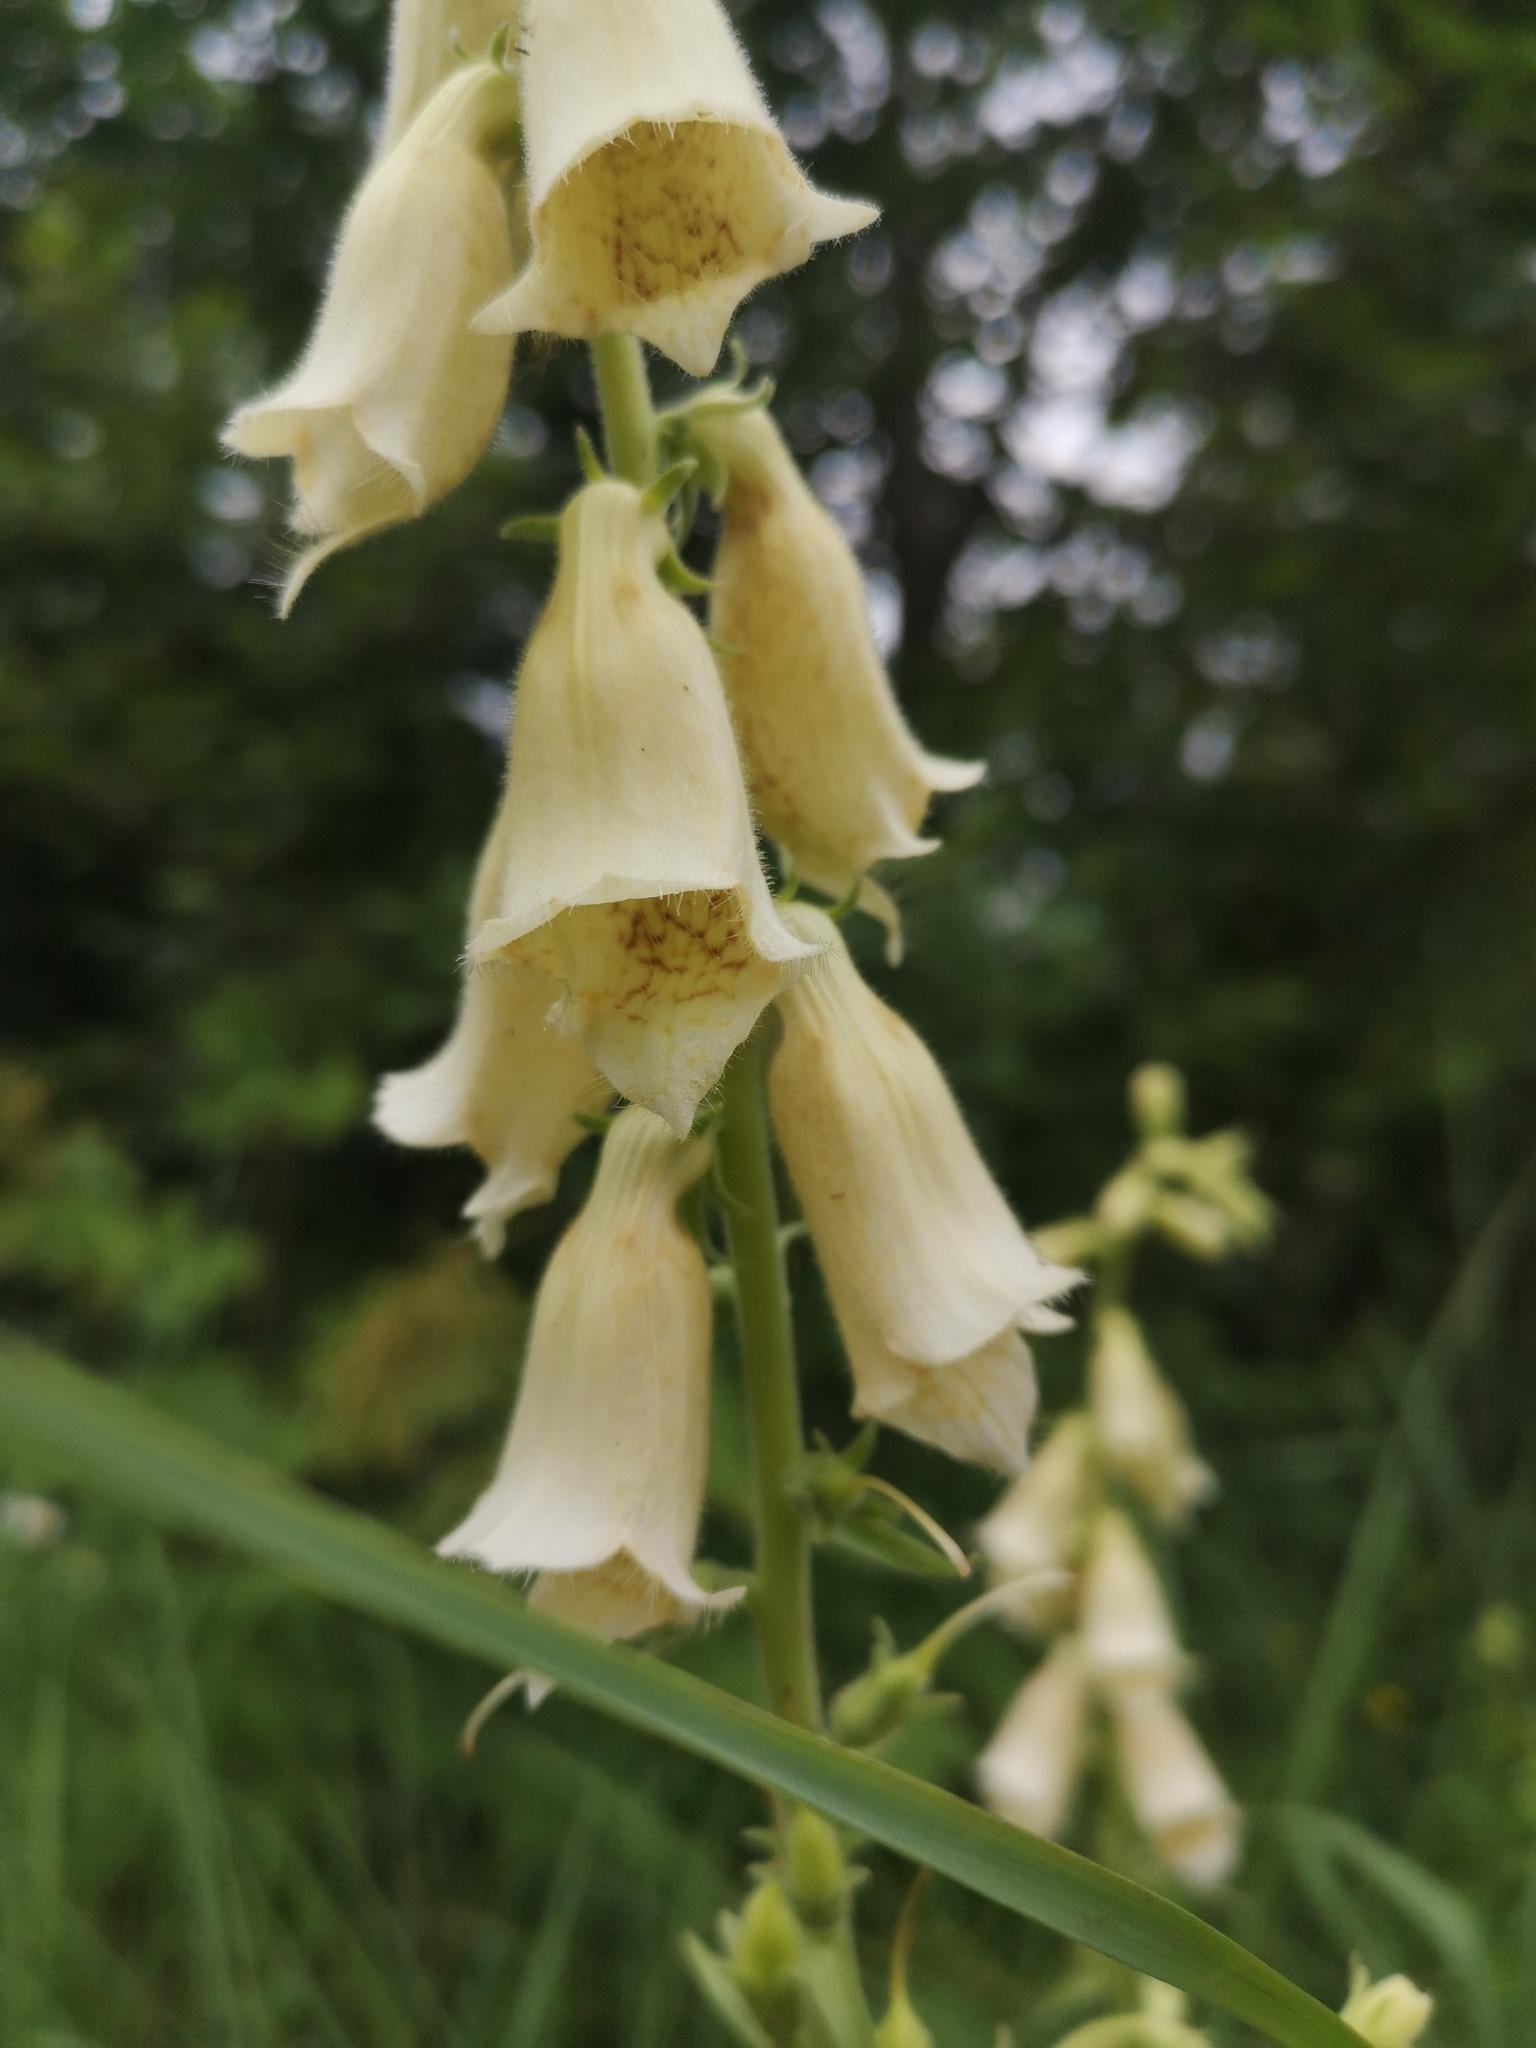Digitalis L: (219, 10, 1062, 1930)
